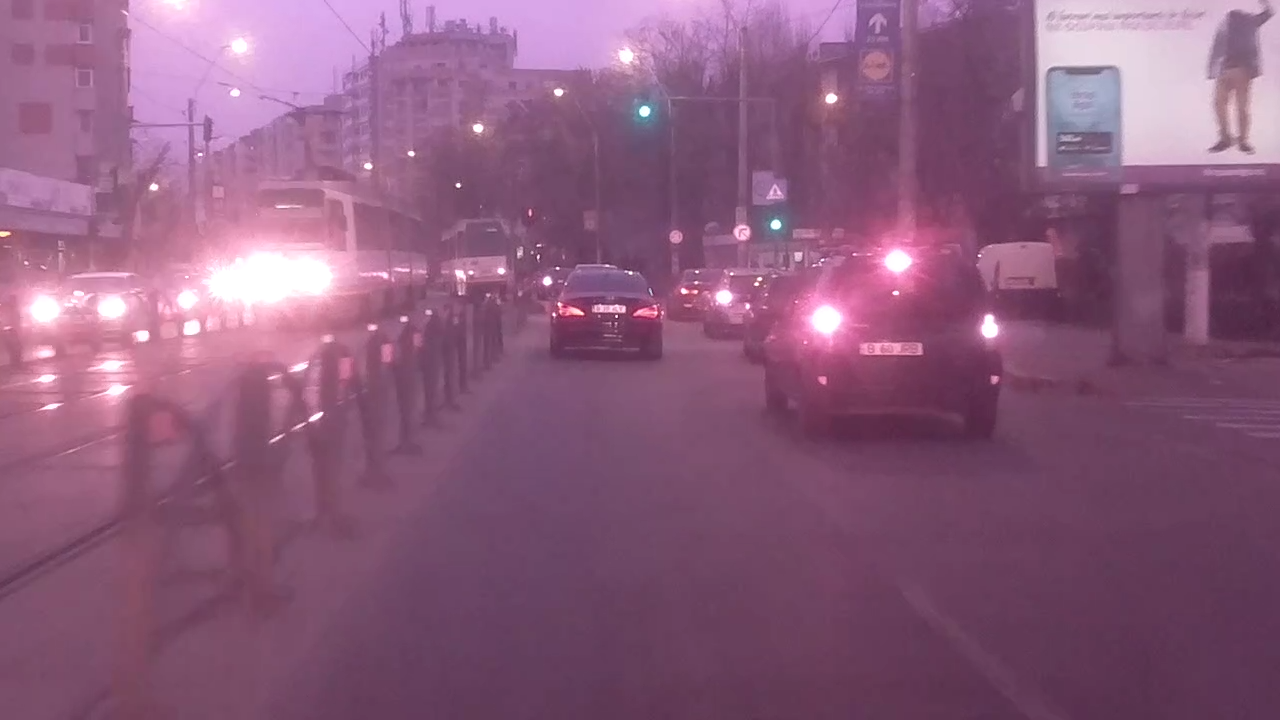license-plate: (853, 339, 925, 358)
